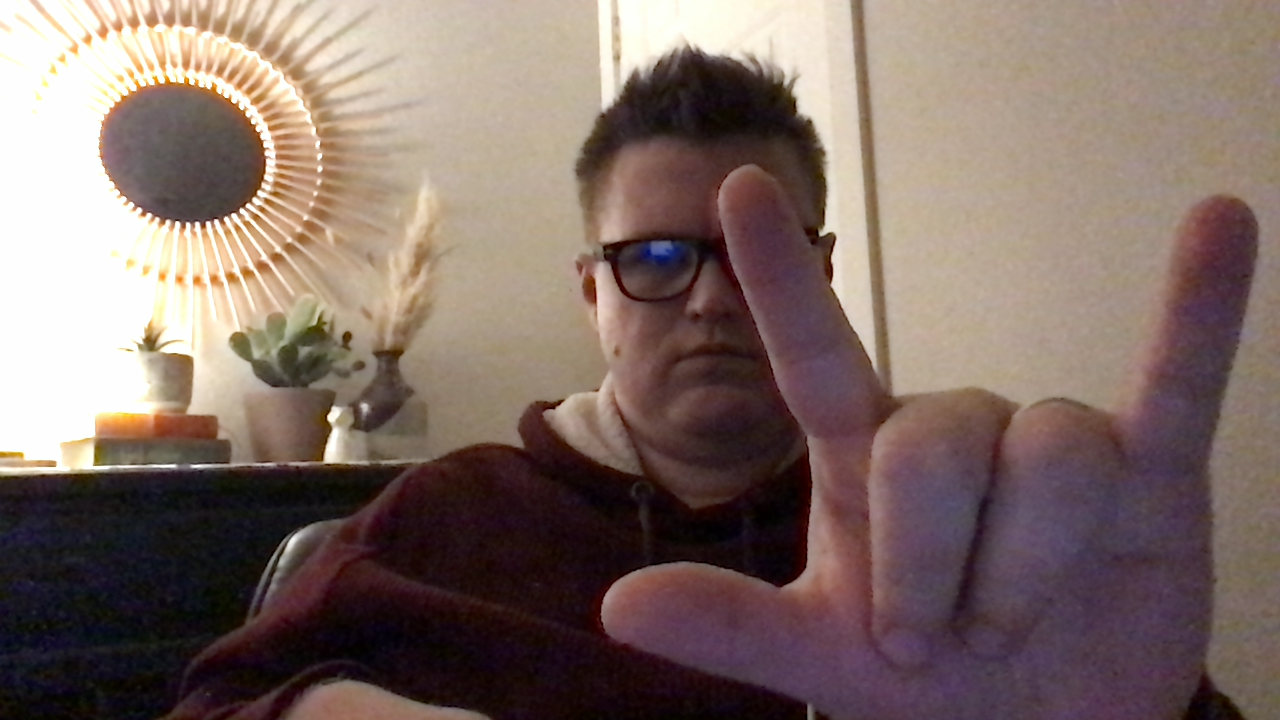iloveyou: (597, 159, 1262, 720)
